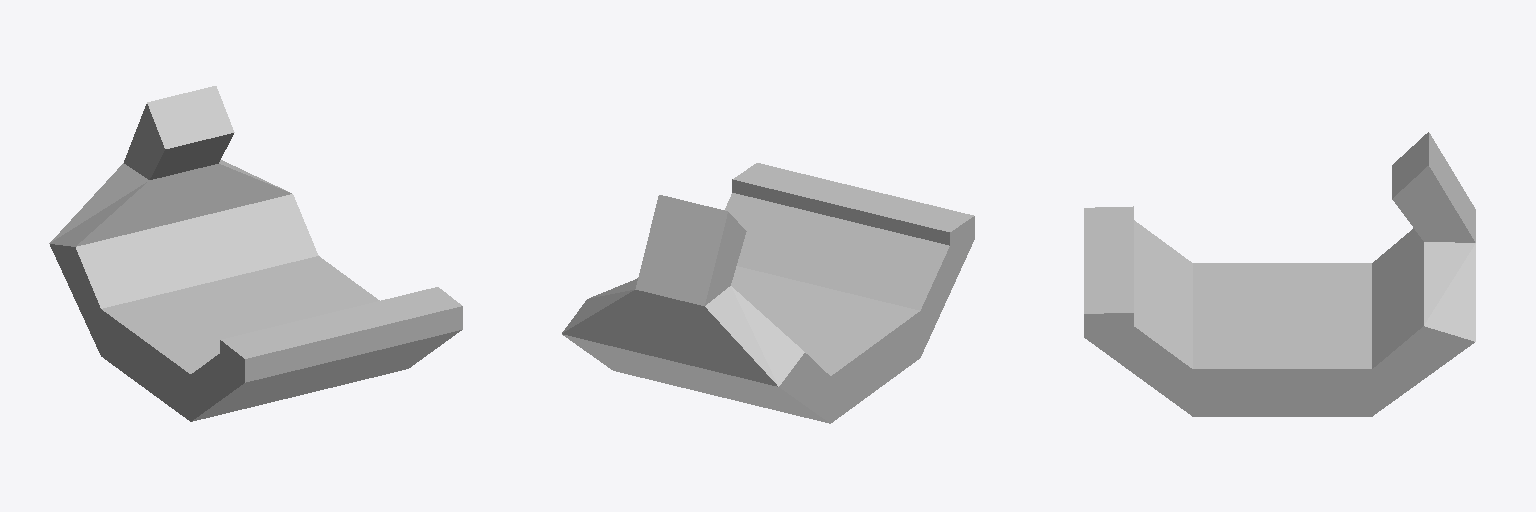
File: Catwalk4.obj
3 renders of one model, left to right at view 1: azimuth 30°, elevation 25°; view 2: azimuth 150°, elevation 25°; view 3: azimuth 270°, elevation 25°, orthographic.
Visible parts, largest first — view 1: Catwalk4; view 2: Catwalk4; view 3: Catwalk4.
Part boxes in pixels (x1,y1,x2,y2): Catwalk4: (49,86,462,421); Catwalk4: (562,163,974,423); Catwalk4: (1084,132,1475,416).
Bounding box in the file's own units: 6.35 × 6 × 9.89.